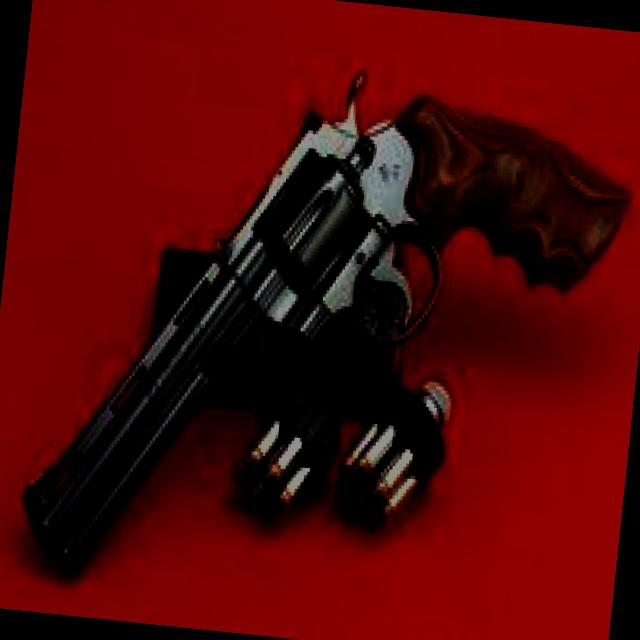revolver: (2, 30, 640, 640)
